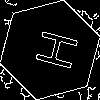H: (25, 25, 79, 72)
